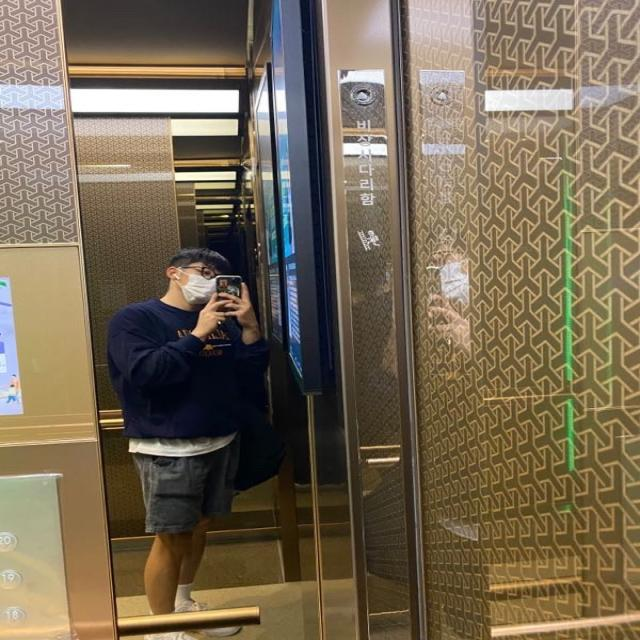mtm: (107, 298, 268, 444)
shortpants: (130, 442, 238, 539)
